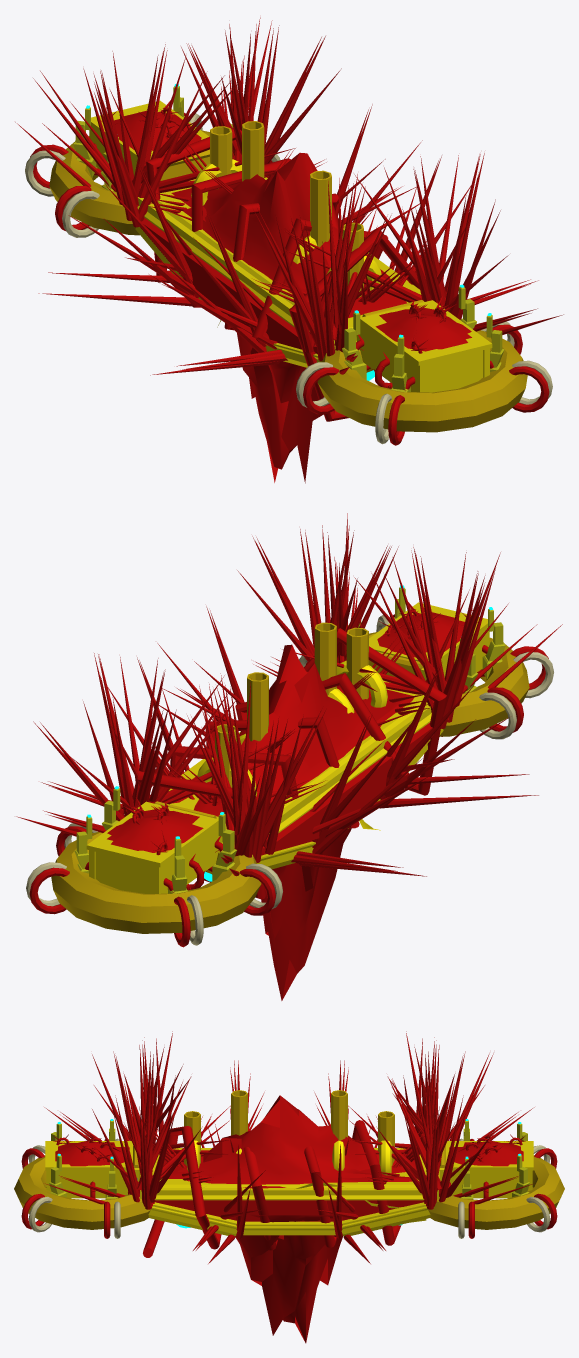
3 renders of one model, top to bottom at view 1: azimuth 30°, elevation 25°; view 2: azimuth 150°, elevation 25°; view 3: azimuth 270°, elevation 25°, orthographic. The views are drawn at different scales.
Parts seen in each view (by area): view 1: demo_boss_1; view 2: demo_boss_1; view 3: demo_boss_1.
Part boxes in pixels (<box>): demo_boss_1: <box>15,17,563,483</box>; demo_boss_1: <box>16,513,562,1000</box>; demo_boss_1: <box>14,1031,564,1343</box>.
Size of the model in its own units: 3.19 by 3.02 by 5.28.
